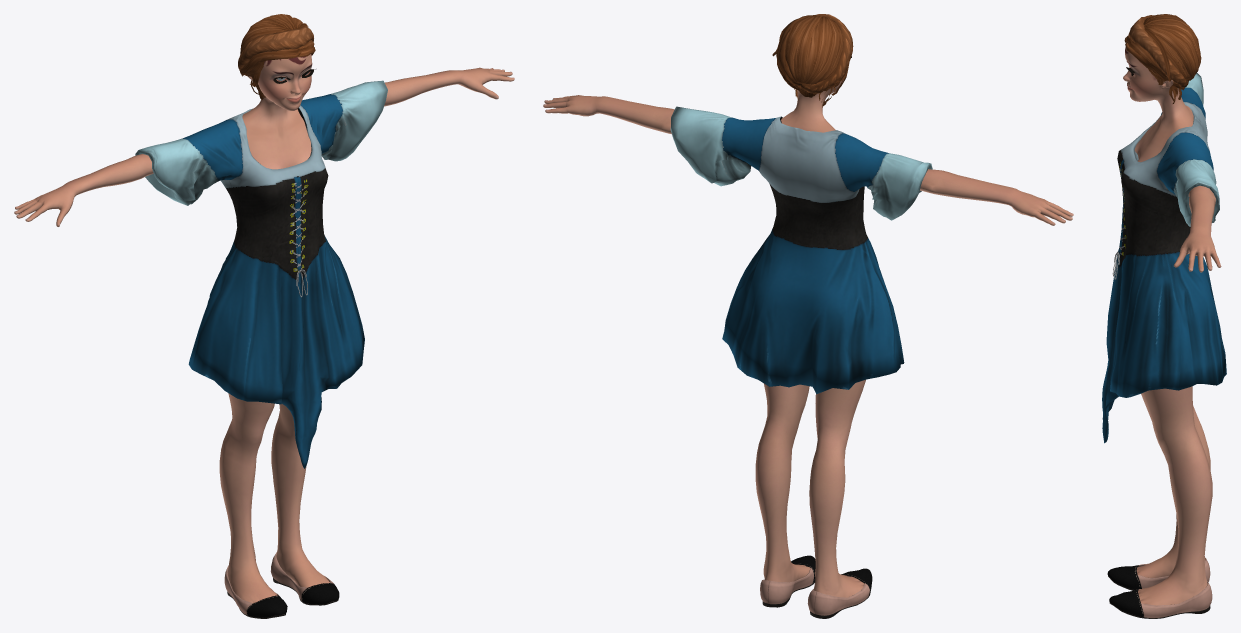
Rendered from SampleFuse.obj.
3 views of the same model, side by side, from view 1: azimuth 30°, elevation 25°; view 2: azimuth 150°, elevation 25°; view 3: azimuth 270°, elevation 25° (orthographic).
Parts seen in each view (by area): view 1: Tops, Body, Hair, Shoes; view 2: Tops, Body, Hair, Shoes; view 3: Tops, Body, Hair, Shoes.
Boxes of the visible parts, bbox=[...] form: Tops: bbox=[135, 80, 387, 468]; Body: bbox=[14, 54, 514, 603]; Hair: bbox=[238, 14, 315, 99]; Shoes: bbox=[224, 552, 339, 618]; Tops: bbox=[670, 106, 932, 394]; Body: bbox=[543, 75, 1073, 598]; Hair: bbox=[772, 14, 853, 106]; Shoes: bbox=[760, 555, 872, 618]; Tops: bbox=[1102, 73, 1226, 443]; Body: bbox=[1123, 47, 1221, 610]; Hair: bbox=[1124, 14, 1201, 103]; Shoes: bbox=[1107, 558, 1212, 618].
Size of the model in its own units: 167 by 180 by 35.21.
4 materials, 4 textured.
